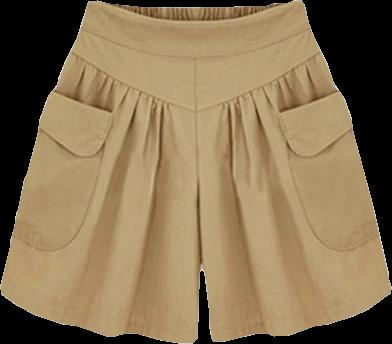Pantleg: (1, 1, 202, 342), (195, 2, 390, 341)
Waistline: (69, 50, 321, 116), (80, 26, 309, 60), (88, 0, 301, 23)
